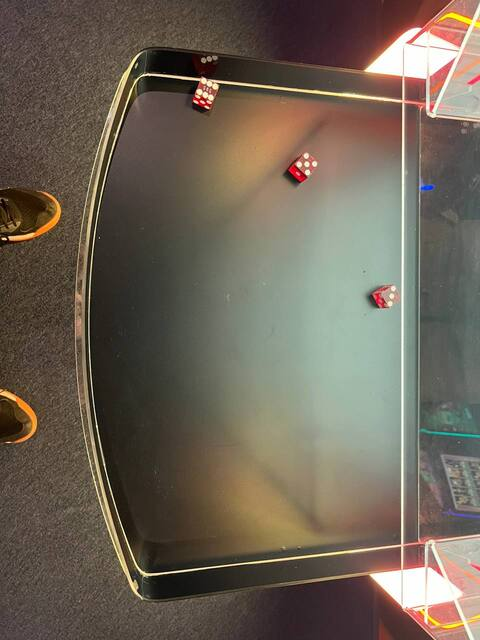five: (292, 148, 322, 179)
six: (192, 74, 222, 102)
three: (379, 281, 403, 311)
